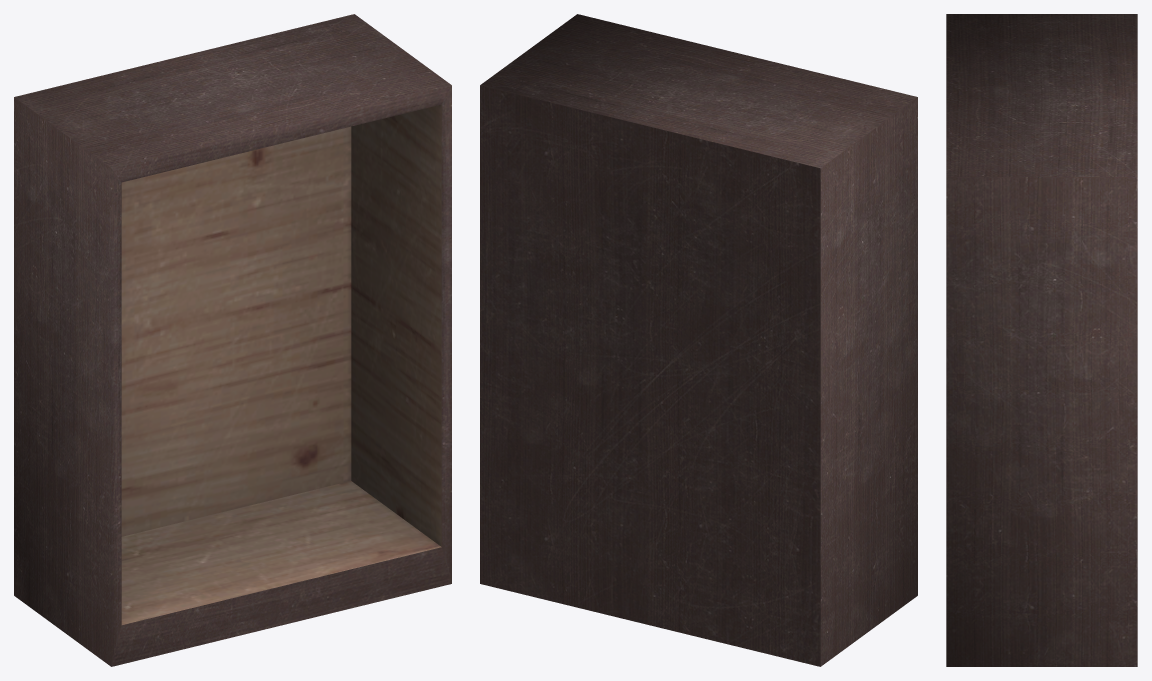
Rendered from cabinet06.FBX.
3 renders of one model, left to right at view 1: azimuth 30°, elevation 25°; view 2: azimuth 150°, elevation 25°; view 3: azimuth 270°, elevation 25°, orthographic.
Parts seen in each view (by area): view 1: SM_Cabinet06; view 2: SM_Cabinet06; view 3: SM_Cabinet06.
Boxes of the visible parts, box(x1,y1,x2,y2) form: SM_Cabinet06: box(14, 14, 451, 666); SM_Cabinet06: box(480, 14, 917, 666); SM_Cabinet06: box(946, 14, 1137, 666).
Size of the model in its own units: 62.5 by 87.49 by 30.94.
Materials: 1 (1 with a texture image).
